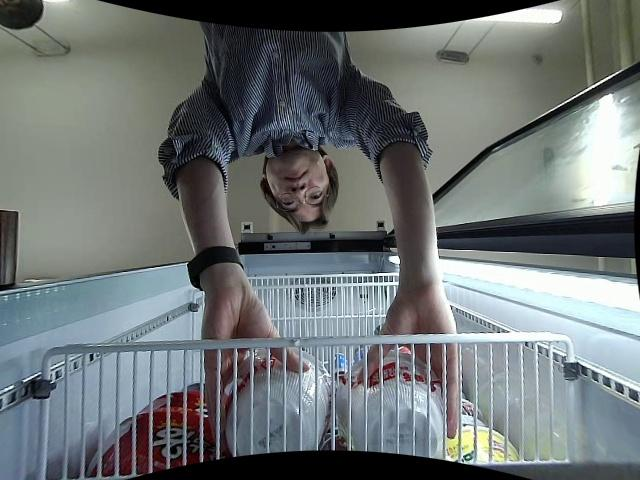00_hand: (202, 296, 310, 449), (358, 295, 460, 440)
09_yukGaeJang: (336, 352, 445, 462), (219, 348, 327, 454)
